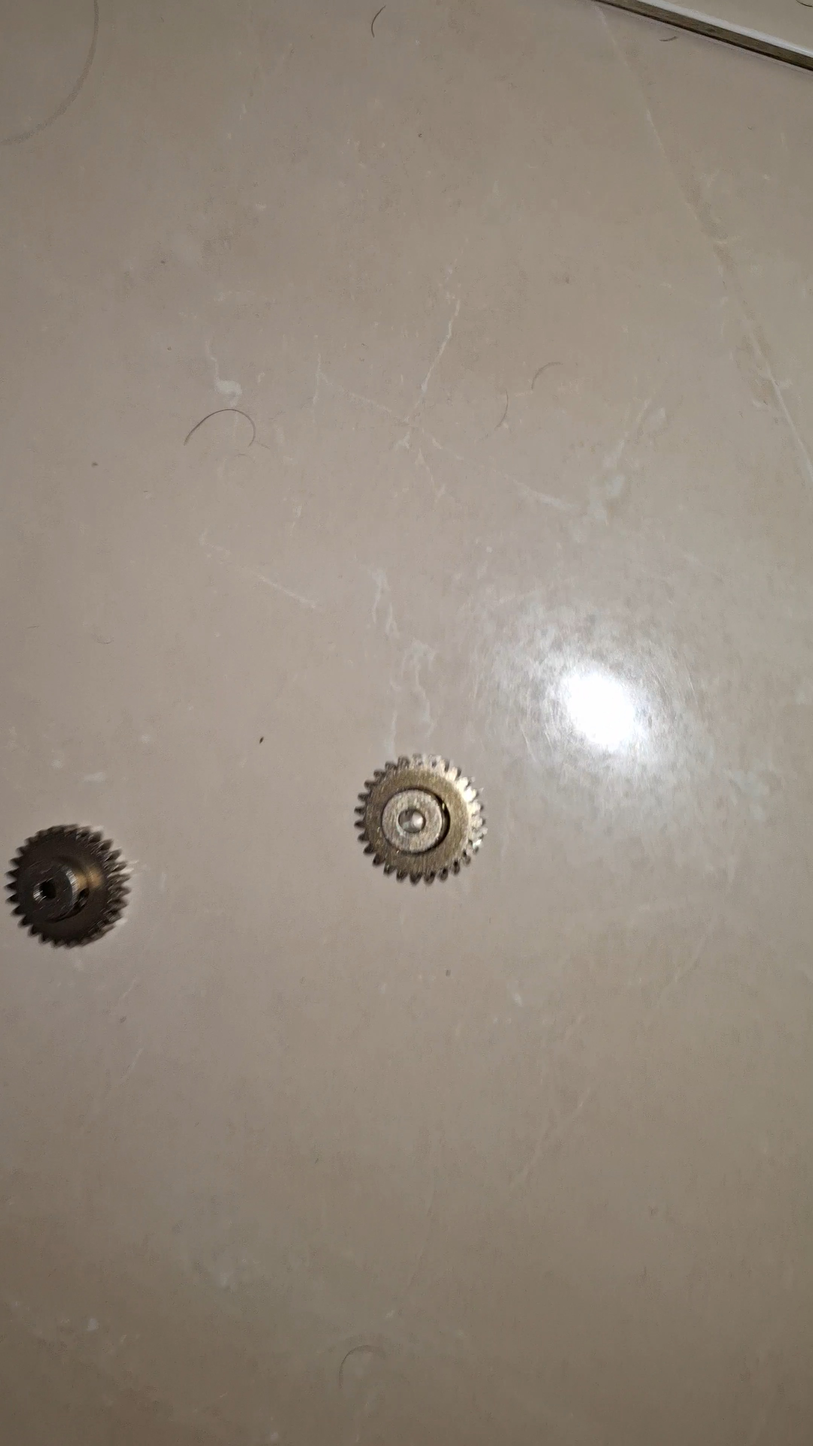spur gear: (356, 755, 485, 883), (7, 827, 129, 946)
